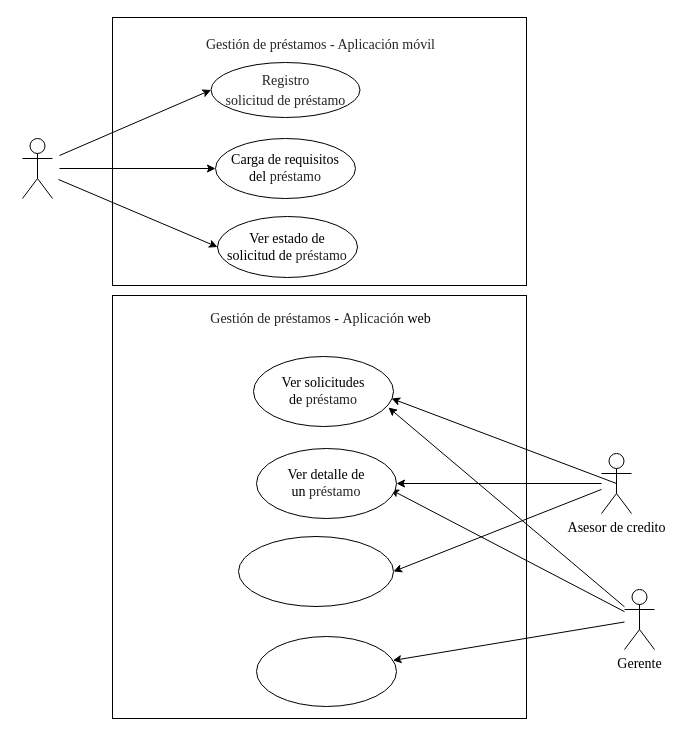
This 683x736 diagram has some shape labels left out. Here are the shapes that lost their labels. From the top down, the box of each, then its label:
(22, 138, 52, 198): Cliente
(238, 536, 394, 606): Pre aprobar, observar, rechazar una solicitud de préstamo
(256, 636, 396, 706): Aprobar préstamo .
